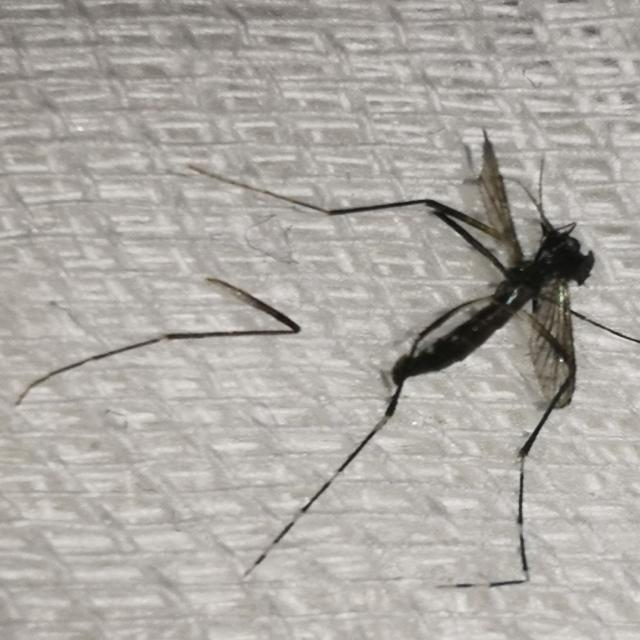albopictus: (174, 124, 640, 598)
